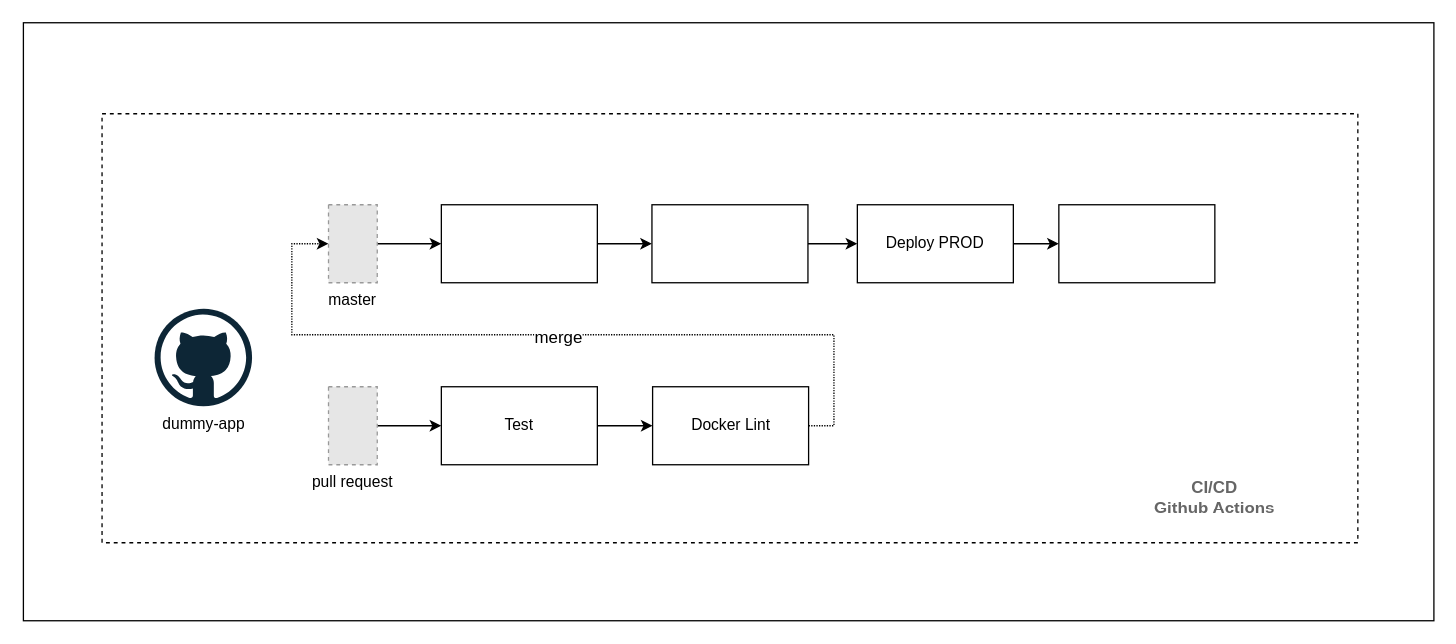
The diagram is 1456 pixels wide and 644 high, and some of its shapes have lost their labels. Grey dashed boxes stand in for pictures. Each missing label, with the box of its shape:
Build And Publish: (440, 203, 597, 283)
Deploy QA: (651, 203, 808, 283)
TAG: (1058, 203, 1215, 283)
